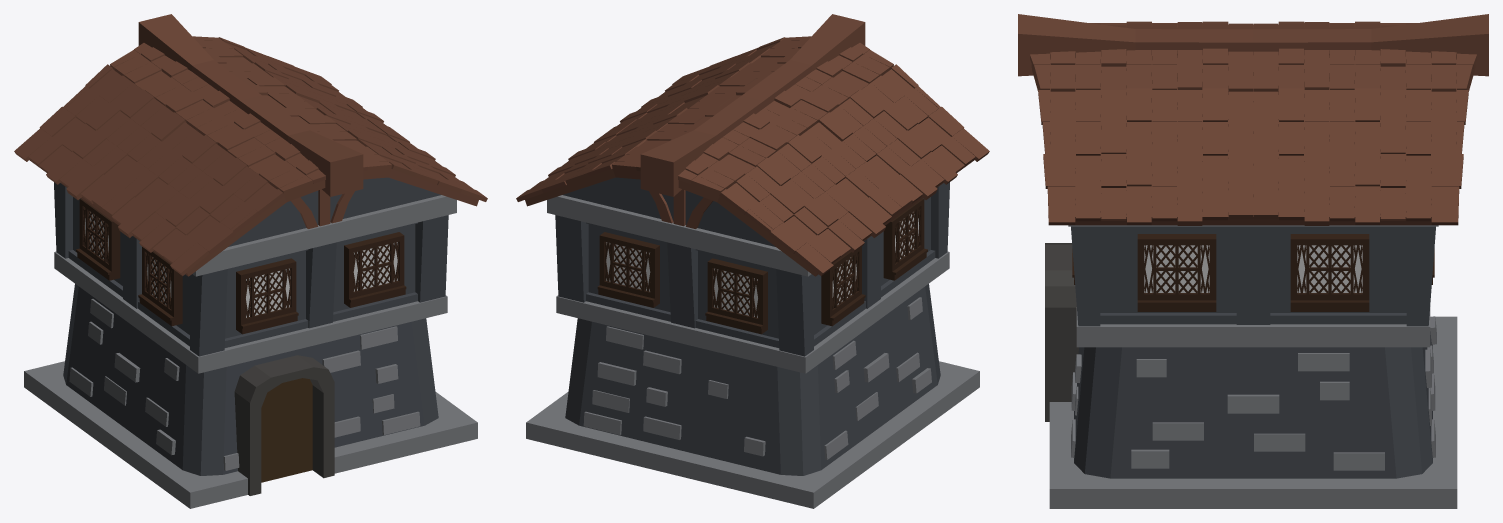
Rendered from SM_Hous_23_B.gltf.
3 renders of one model, left to right at view 1: azimuth 30°, elevation 25°; view 2: azimuth 150°, elevation 25°; view 3: azimuth 270°, elevation 25°, orthographic. The views are drawn at different scales.
Parts seen in each view (by area): view 1: SM_Hous_23_B; view 2: SM_Hous_23_B; view 3: SM_Hous_23_B.
Boxes of the visible parts, x1=… form: SM_Hous_23_B: x1=14, y1=14, x2=487, y2=508; SM_Hous_23_B: x1=516, y1=14, x2=989, y2=508; SM_Hous_23_B: x1=1018, y1=14, x2=1488, y2=508.
Bounding box in the file's own units: 6.66 × 6.71 × 7.18.
